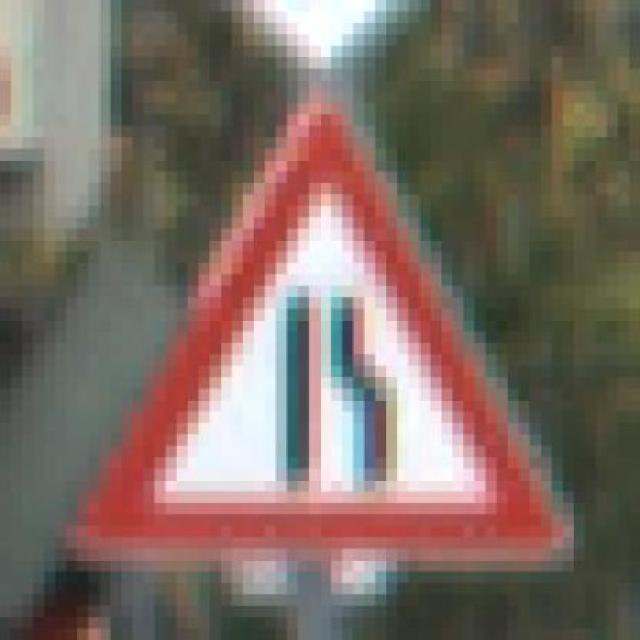-Road narrows on right: (55, 80, 596, 583)
